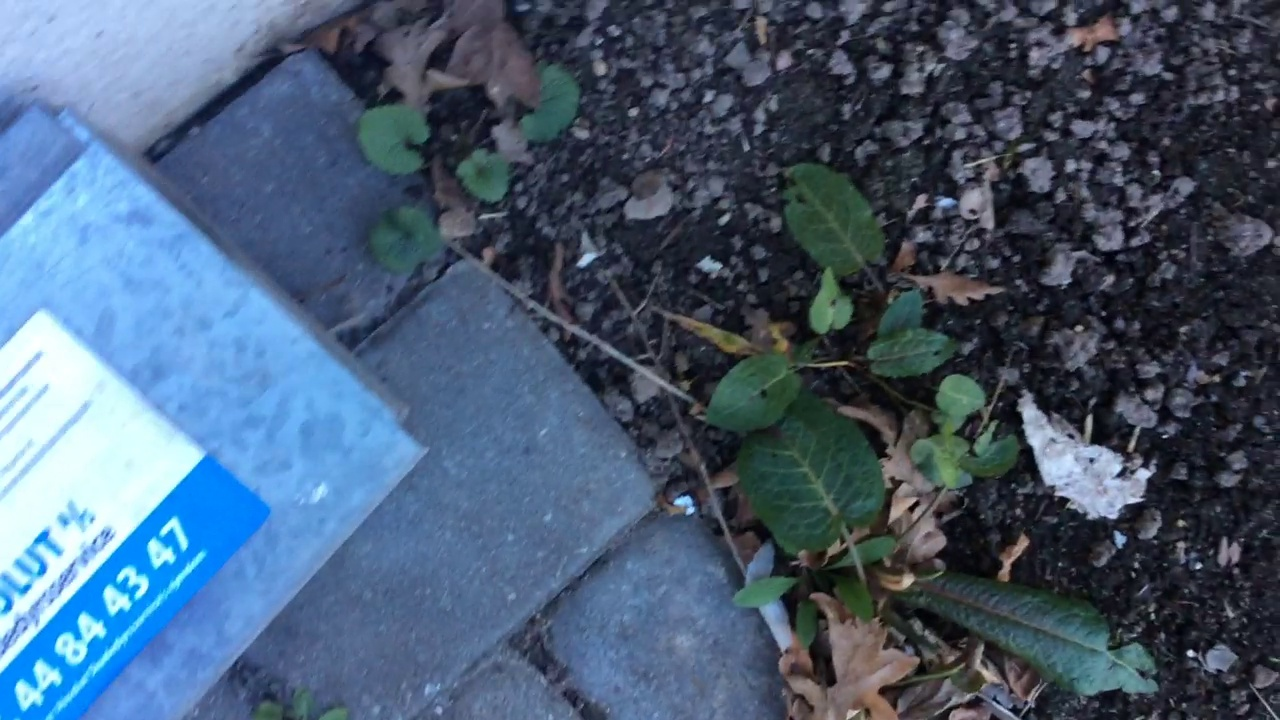rumex: (721, 374, 1161, 703), (681, 149, 964, 446)
